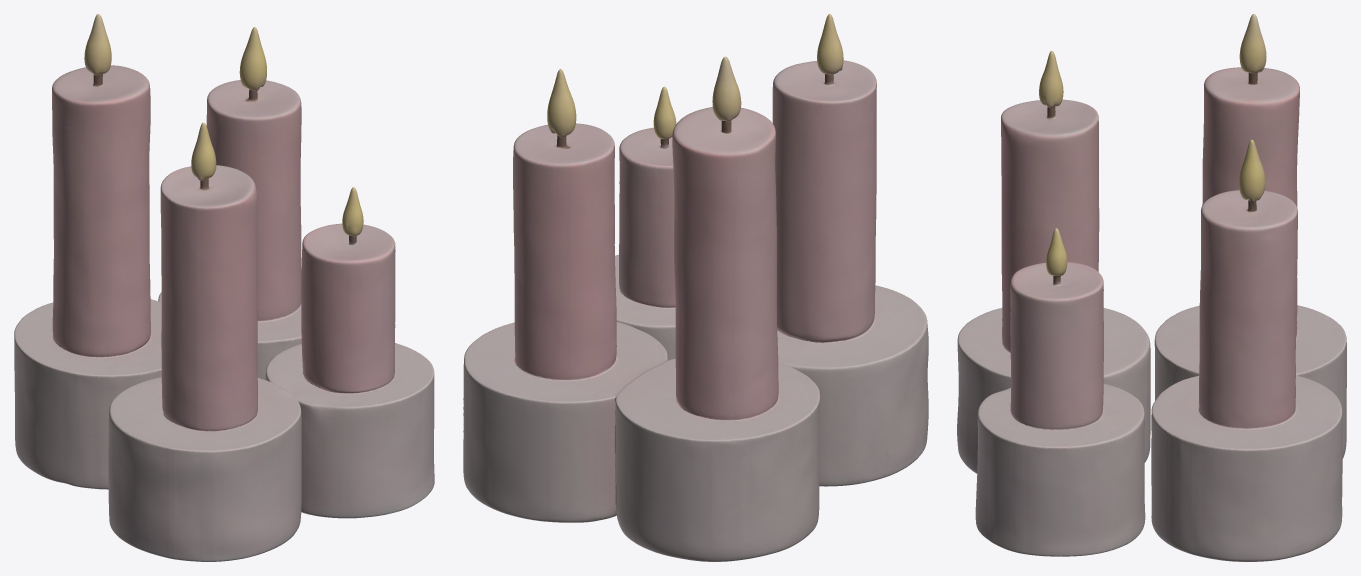
The model's file is detailed_realistic_model_floatingcandles_28.glb.
The picture shows the model from 3 angles, left to right: view 1: azimuth 30°, elevation 25°; view 2: azimuth 150°, elevation 25°; view 3: azimuth 270°, elevation 25°; orthographic projection. The views are drawn at different scales.
Parts seen in each view (by area): view 1: tripo_node_34d64f4a-ef83-416d-857c-b9e424b9216c; view 2: tripo_node_34d64f4a-ef83-416d-857c-b9e424b9216c; view 3: tripo_node_34d64f4a-ef83-416d-857c-b9e424b9216c.
Boxes of the visible parts, x1,y1,x2,y2 form: tripo_node_34d64f4a-ef83-416d-857c-b9e424b9216c: (14, 14, 434, 561); tripo_node_34d64f4a-ef83-416d-857c-b9e424b9216c: (463, 14, 928, 561); tripo_node_34d64f4a-ef83-416d-857c-b9e424b9216c: (957, 14, 1346, 561).
Bounding box in the file's own units: 0.7443 × 1 × 0.8101.
Materials: 1 (1 with a texture image).
